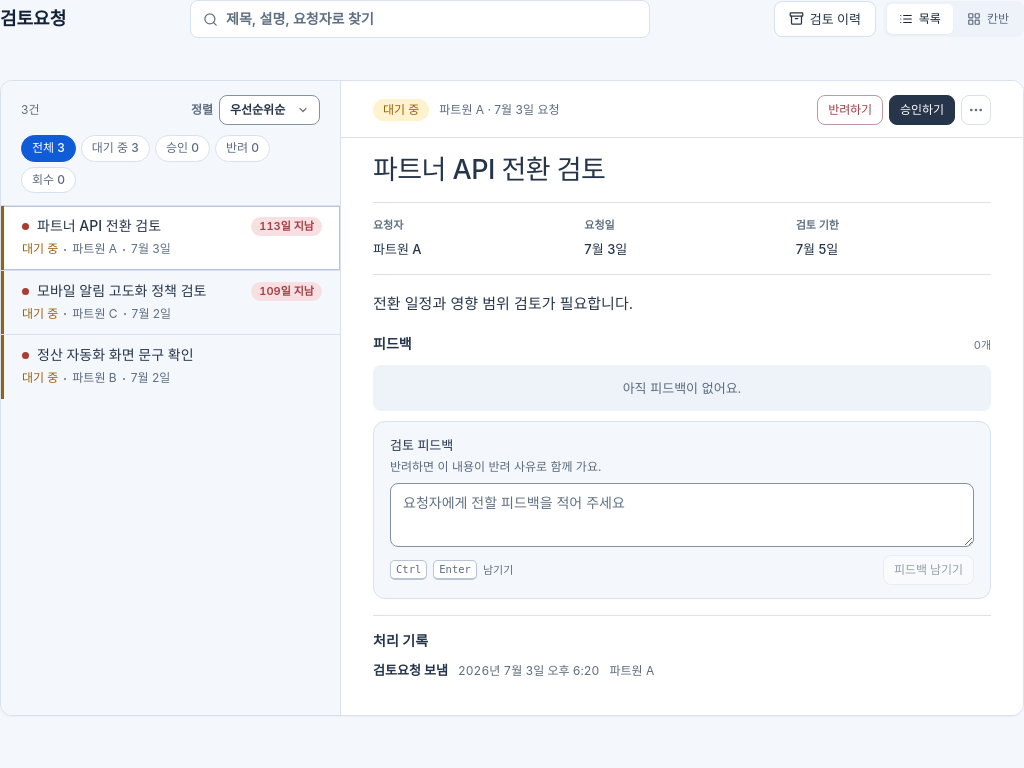
Test: ReviewsPanel › replaces the leader withdrawal archive with one searchable review-history entry
The image size is (1024, 768).
Click the button "검토 이력".
click(825, 19)  # box [774, 1, 876, 37]
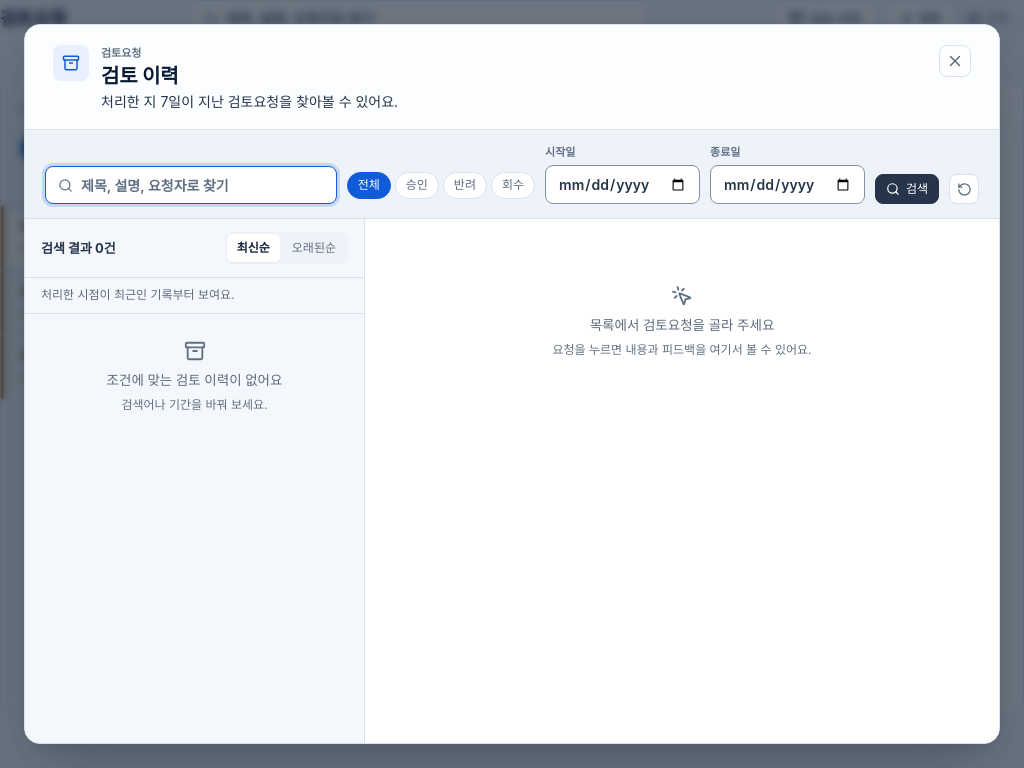
Expected: the dialog "검토 이력" is shown
